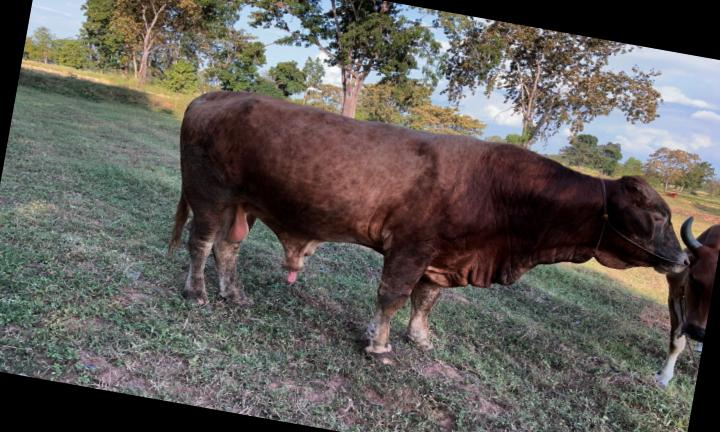Charolais: (172, 91, 688, 363)
